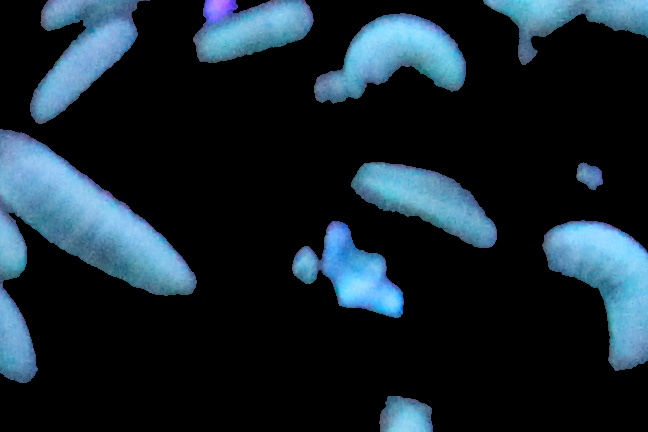larvae: (1, 121, 209, 300), (541, 217, 648, 371), (22, 15, 143, 133), (349, 169, 499, 254), (339, 10, 472, 92), (193, 1, 322, 60), (1, 260, 49, 387), (1, 167, 32, 283)
